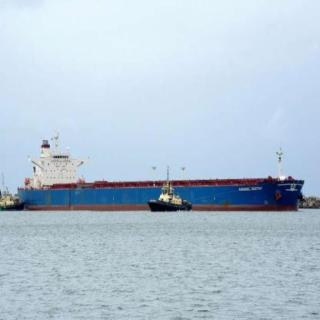Bulk Carrier: (6, 152, 310, 212)
